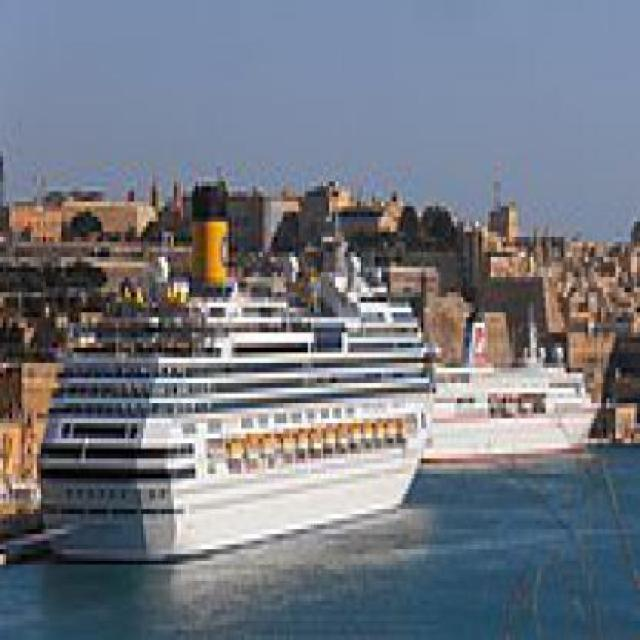cruise: (25, 273, 443, 566)
